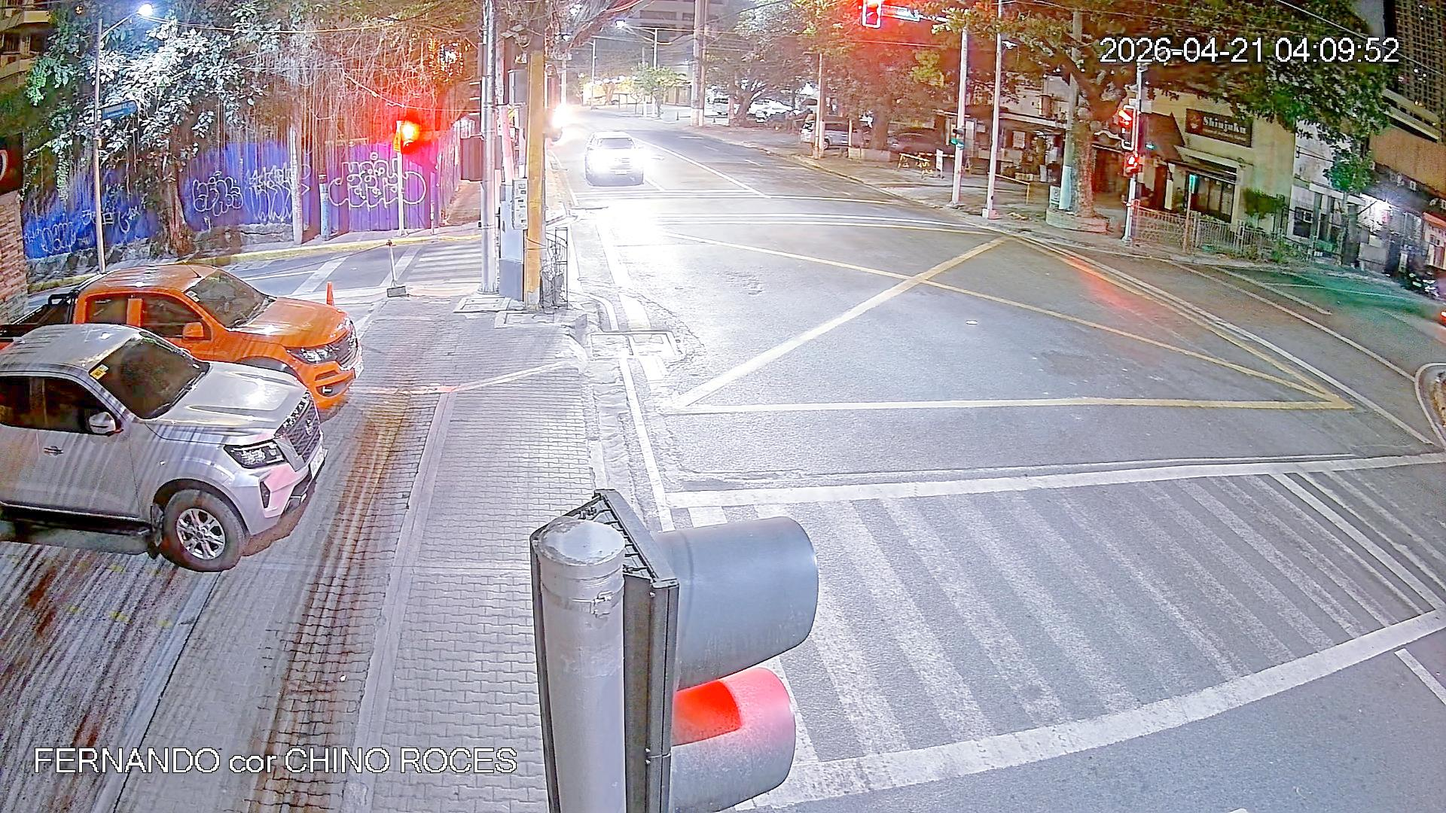Car: (2, 323, 357, 601), (48, 270, 394, 431), (575, 127, 658, 204)
